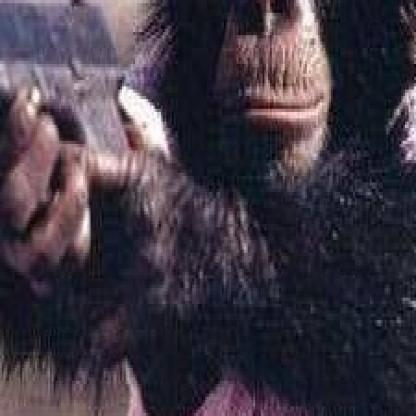gun: (0, 0, 146, 221)
